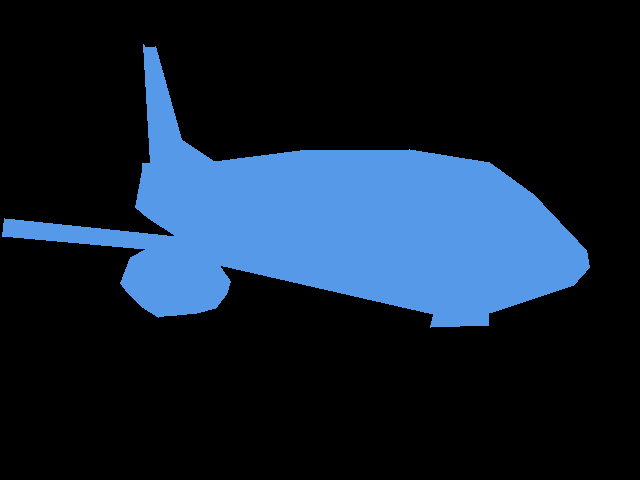Airplane: (2, 44, 590, 328)
